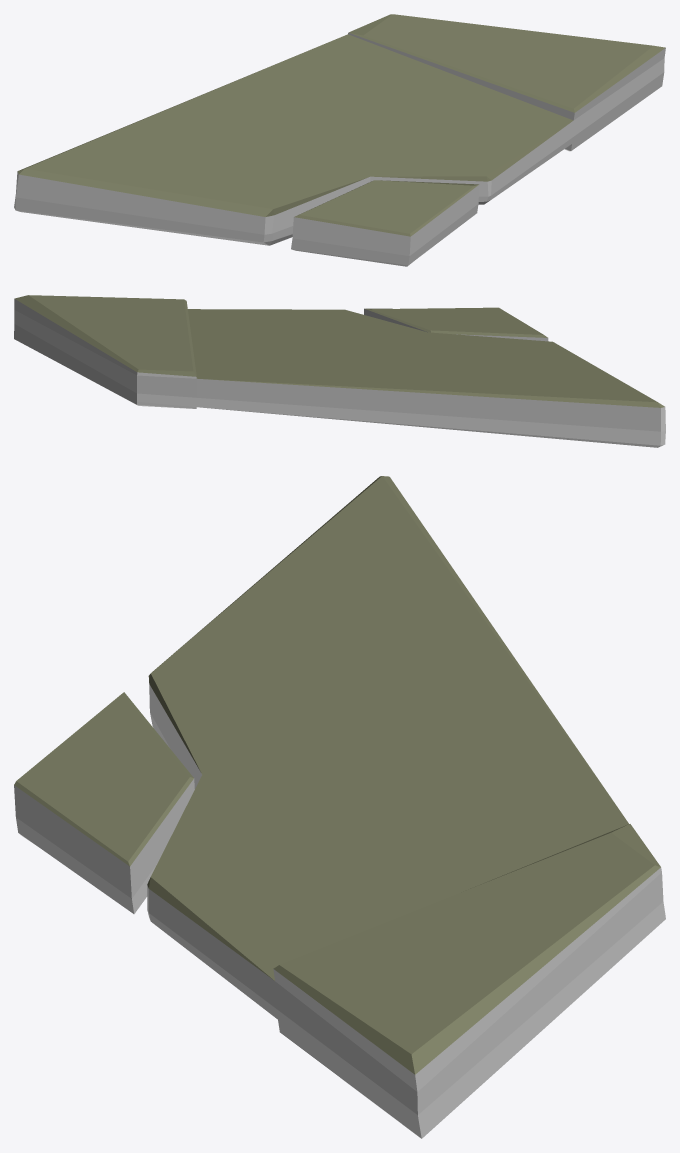
The model's file is Rock1.fbx.
The picture shows the model from 3 angles, top to bottom: view 1: azimuth 30°, elevation 25°; view 2: azimuth 150°, elevation 25°; view 3: azimuth 270°, elevation 25°; orthographic projection. The views are drawn at different scales.
Visible parts, largest first — view 1: rock; view 2: rock; view 3: rock.
Part boxes in pixels (bbox=[...]): rock: bbox=[14, 14, 665, 266]; rock: bbox=[14, 295, 665, 447]; rock: bbox=[14, 476, 665, 1138].
Bounding box in the file's own units: 103 × 13.26 × 53.24.
